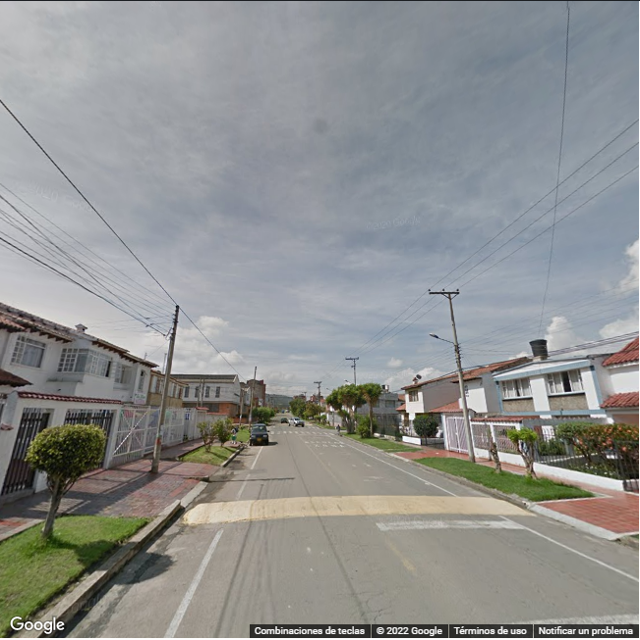D00: (364, 594, 376, 611)
D10: (356, 612, 381, 619)
